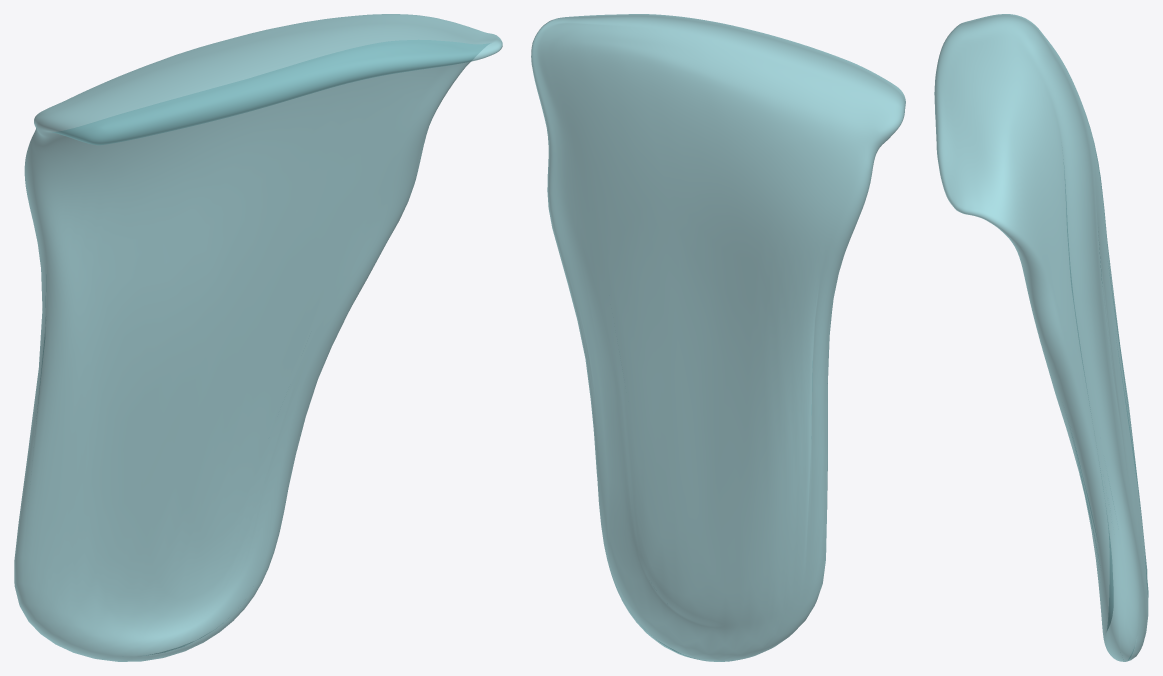
Rendered from lava2.fbx.
The picture shows the model from 3 angles, left to right: view 1: azimuth 30°, elevation 25°; view 2: azimuth 150°, elevation 25°; view 3: azimuth 270°, elevation 25°; orthographic projection. The views are drawn at different scales.
Visible parts, largest first — view 1: lava2; view 2: lava2; view 3: lava2.
Part boxes in pixels (left/top/right/bottom): lava2: left=14, top=14, right=502, bottom=661; lava2: left=531, top=14, right=905, bottom=661; lava2: left=934, top=14, right=1148, bottom=661.
Size of the model in its own units: 8806 by 12675 by 4182.
